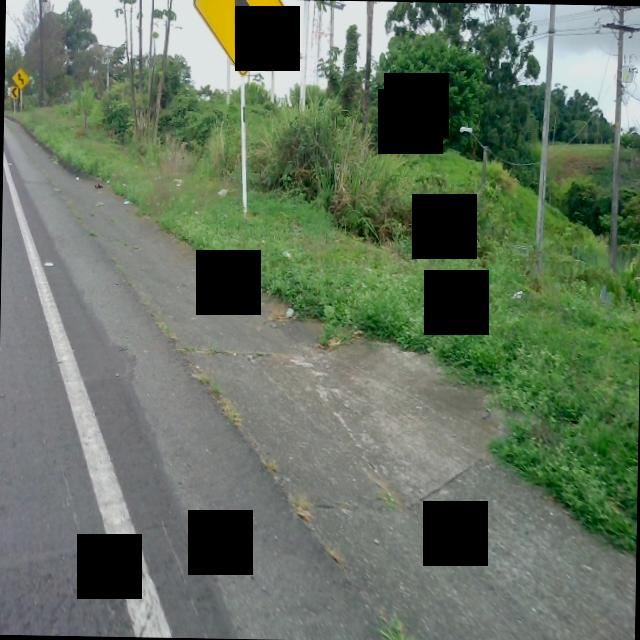DITCH: (0, 111, 640, 640), (0, 112, 640, 640)
